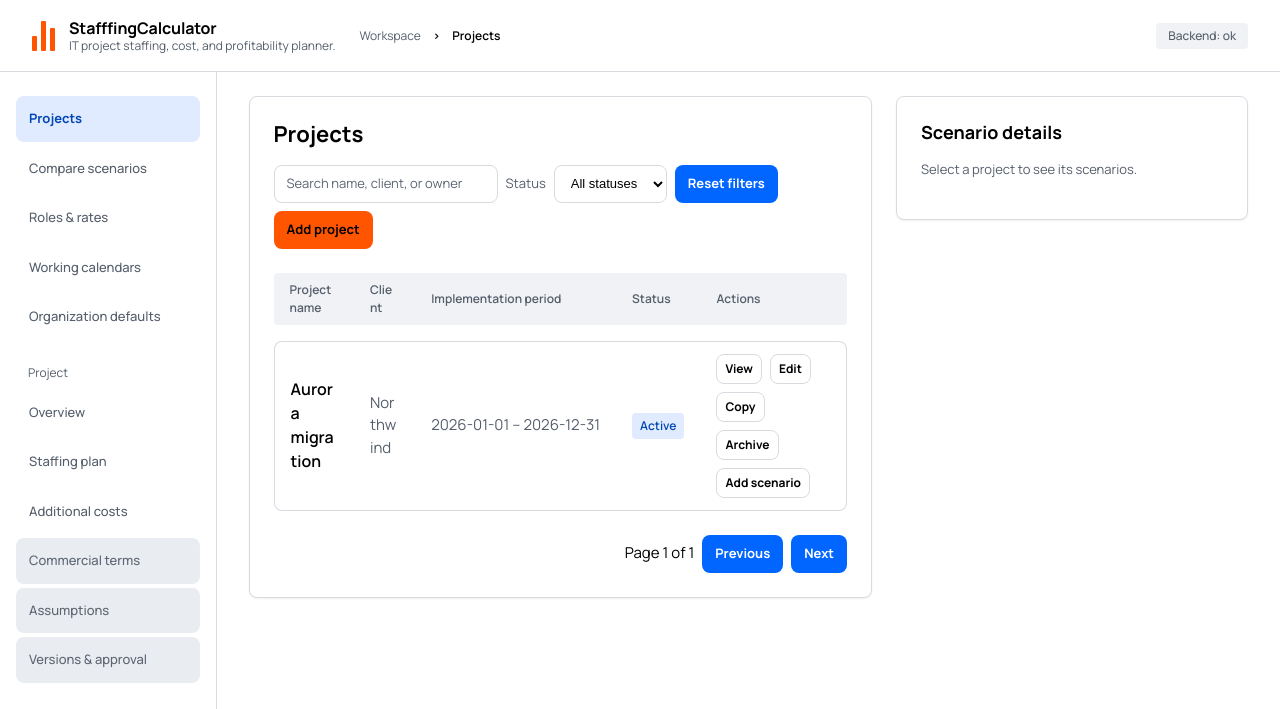
K-01 — Story Points and Outcome-based scenarios are readable in both sections; values outside the contract are not › renders an outcome-based scenario in both sections, by the model's own name and without the Time & Material lines
The image size is (1280, 709).
Click the button "Aurora migration": (314, 425) [290, 377, 338, 473]
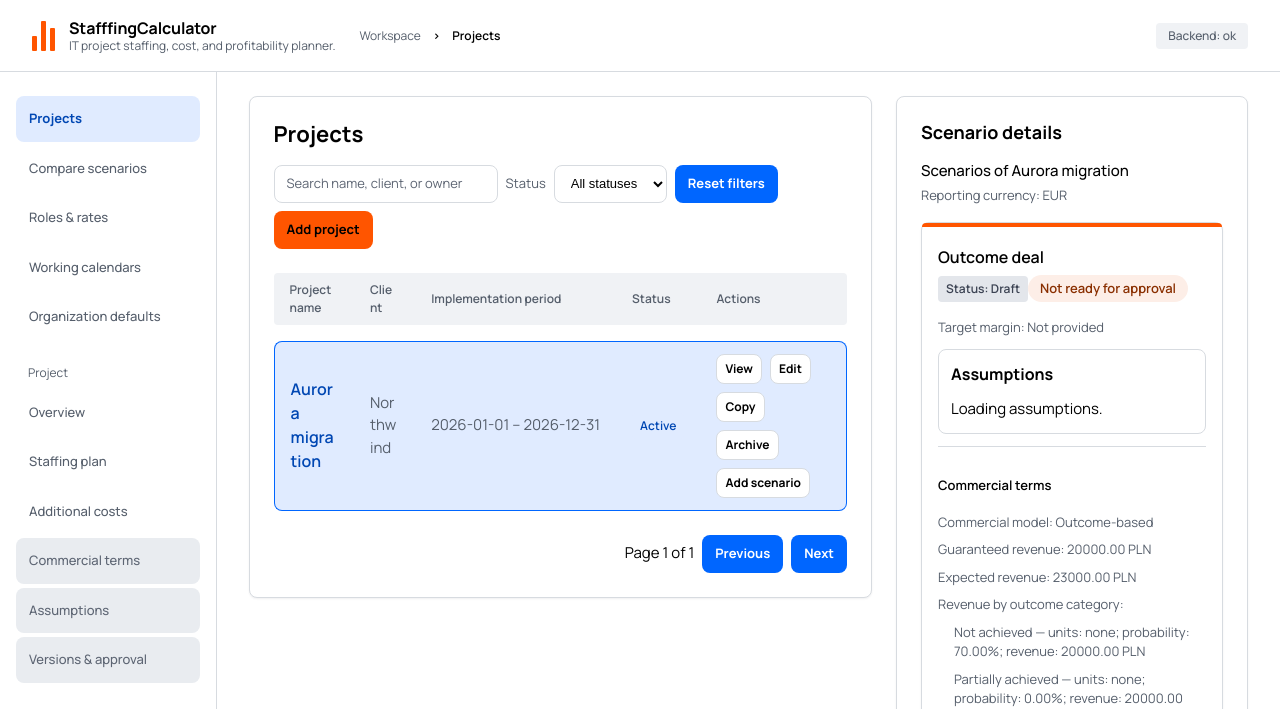
Now the text "Commercial model: Outcome-based" is shown, box [938, 513, 1153, 531]
Now the text "Status: Draft" is shown, box [938, 276, 1028, 302]
